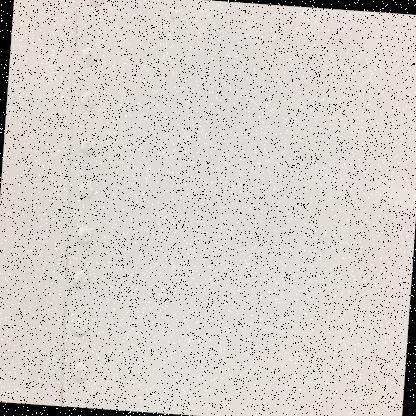Nocrack: (19, 5, 400, 407)
